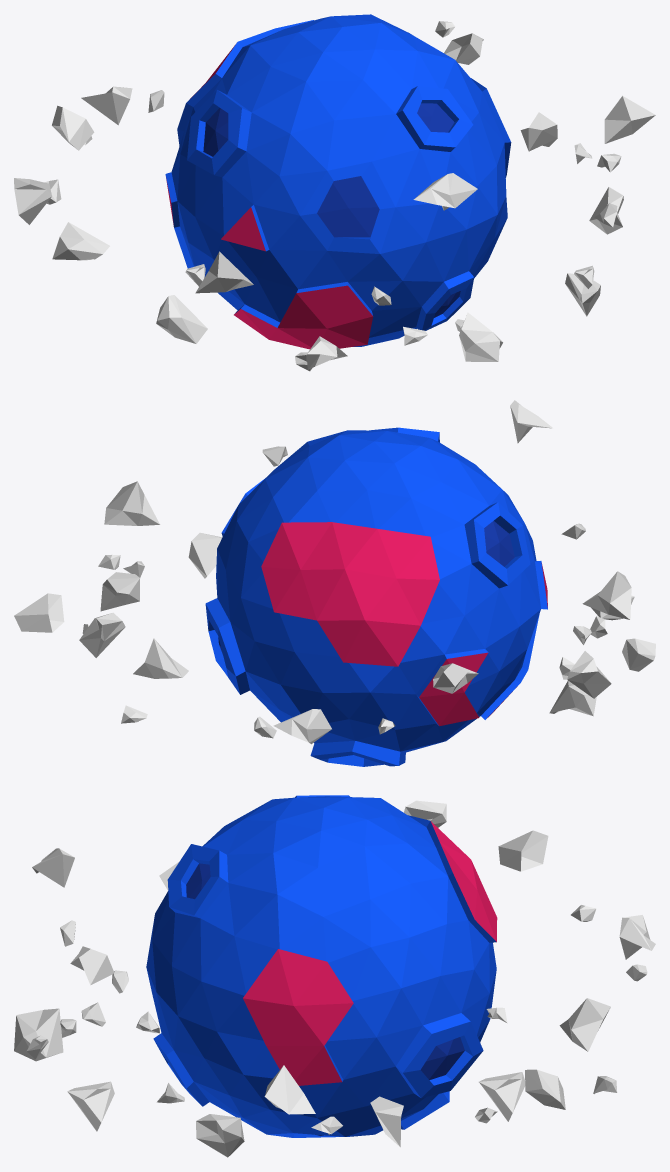
File: Planet.FBX
3 renders of one model, top to bottom at view 1: azimuth 30°, elevation 25°; view 2: azimuth 150°, elevation 25°; view 3: azimuth 270°, elevation 25°, orthographic. The views are drawn at different scales.
Parts seen in each view (by area): view 1: Planet, GeoSphere008, GeoSphere006, GeoSphere024, GeoSphere005, GeoSphere029, GeoSphere028, GeoSphere025, GeoSphere004, GeoSphere003, GeoSphere011, GeoSphere030 (+3 smaller); view 2: Planet, GeoSphere024, GeoSphere030, GeoSphere028, GeoSphere011, GeoSphere003, GeoSphere012, GeoSphere002, GeoSphere025, GeoSphere010, GeoSphere005, GeoSphere004 (+2 smaller); view 3: Planet, GeoSphere008, GeoSphere010, GeoSphere004, GeoSphere002, GeoSphere024, GeoSphere009, GeoSphere012, GeoSphere030, GeoSphere003, GeoSphere007, GeoSphere011 (+2 smaller).
Boxes of the visible parts, left/top/right/bottom form: Planet: left=165, top=14, right=511, bottom=349; GeoSphere008: left=459, top=312, right=502, bottom=361; GeoSphere006: left=156, top=295, right=207, bottom=343; GeoSphere024: left=604, top=96, right=655, bottom=143; GeoSphere005: left=52, top=222, right=109, bottom=260; GeoSphere029: left=413, top=173, right=477, bottom=210; GeoSphere028: left=195, top=251, right=253, bottom=293; GeoSphere025: left=14, top=178, right=51, bottom=224; GeoSphere004: left=52, top=105, right=94, bottom=150; GeoSphere003: left=81, top=86, right=132, bottom=125; GeoSphere011: left=520, top=112, right=557, bottom=151; GeoSphere030: left=444, top=33, right=483, bottom=64; Planet: left=205, top=427, right=547, bottom=766; GeoSphere024: left=104, top=481, right=159, bottom=525; GeoSphere030: left=14, top=593, right=64, bottom=632; GeoSphere028: left=582, top=571, right=631, bottom=619; GeoSphere011: left=100, top=572, right=139, bottom=611; GeoSphere003: left=273, top=709, right=331, bottom=744; GeoSphere012: left=79, top=612, right=125, bottom=657; GeoSphere002: left=133, top=638, right=188, bottom=678; GeoSphere025: left=567, top=651, right=611, bottom=698; GeoSphere010: left=188, top=532, right=222, bottom=578; GeoSphere005: left=549, top=680, right=596, bottom=716; GeoSphere004: left=433, top=663, right=478, bottom=693; Planet: left=146, top=795, right=497, bottom=1137; GeoSphere008: left=14, top=1008, right=63, bottom=1061; GeoSphere010: left=196, top=1114, right=244, bottom=1157; GeoSphere004: left=498, top=830, right=548, bottom=871; GeoSphere002: left=559, top=998, right=610, bottom=1051; GeoSphere024: left=264, top=1065, right=315, bottom=1114; GeoSphere009: left=67, top=1081, right=114, bottom=1131; GeoSphere012: left=479, top=1072, right=525, bottom=1121; GeoSphere030: left=525, top=1069, right=565, bottom=1109; GeoSphere003: left=619, top=915, right=655, bottom=959; GeoSphere007: left=70, top=946, right=114, bottom=985; GeoSphere011: left=370, top=1096, right=403, bottom=1147.
Bounding box in the file's own units: 155 × 80.2 × 144.
